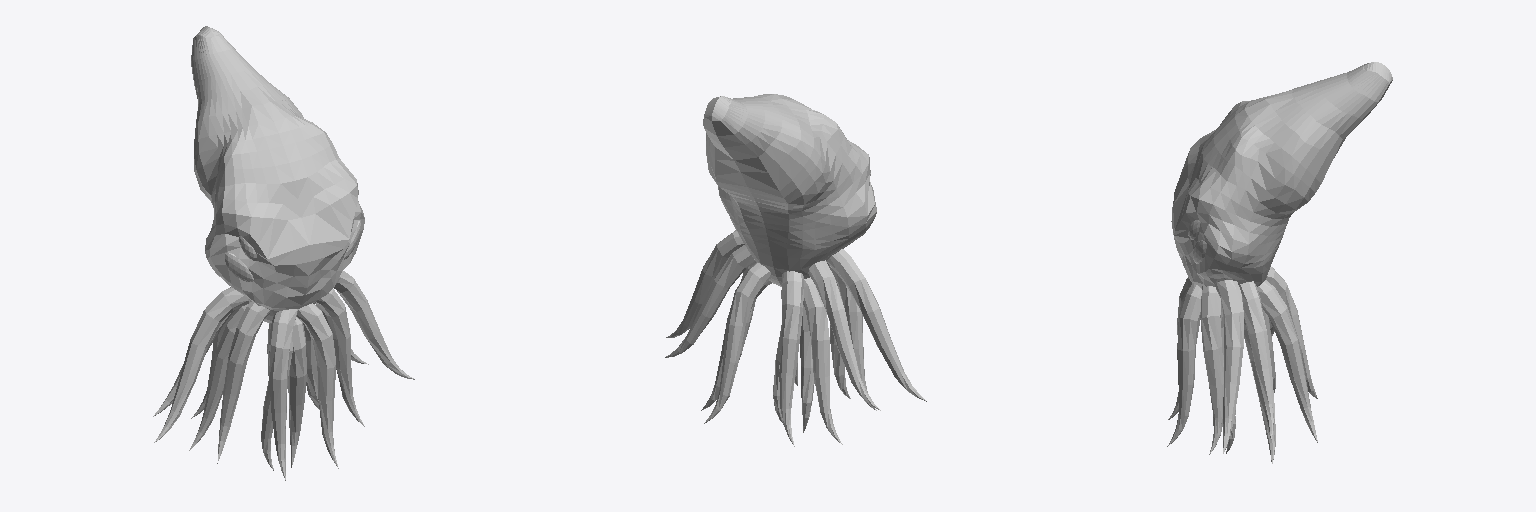
The model's file is juanlu texturizado + luces.obj.
3 views of the same model, side by side, from view 1: azimuth 30°, elevation 25°; view 2: azimuth 150°, elevation 25°; view 3: azimuth 270°, elevation 25° (orthographic).
Visible parts, largest first — view 1: Cabeza, Tentaculos, Ojos; view 2: Cabeza, Tentaculos; view 3: Cabeza, Tentaculos.
Boxes of the visible parts, box(x1,y1,x2,y2) form: Cabeza: box(191, 26, 364, 322); Tentaculos: box(153, 271, 414, 480); Ojos: box(225, 219, 360, 281); Cabeza: box(703, 94, 876, 286); Tentaculos: box(665, 230, 926, 446); Cabeza: box(1171, 62, 1392, 288); Tentaculos: box(1167, 267, 1317, 463).
Bounding box in the file's own units: 8.16 × 11.51 × 6.07.